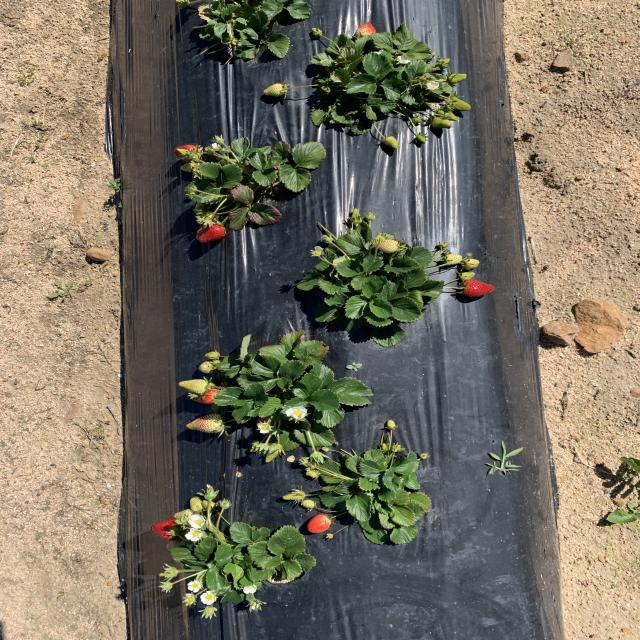unripe: (194, 219, 228, 243), (150, 517, 183, 541), (187, 387, 224, 405), (462, 280, 495, 298), (307, 515, 331, 533), (174, 145, 198, 159)
